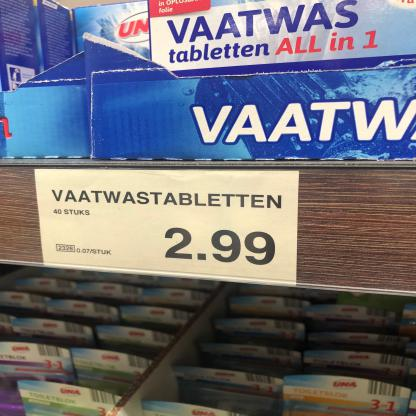prtg: (36, 170, 300, 287)
